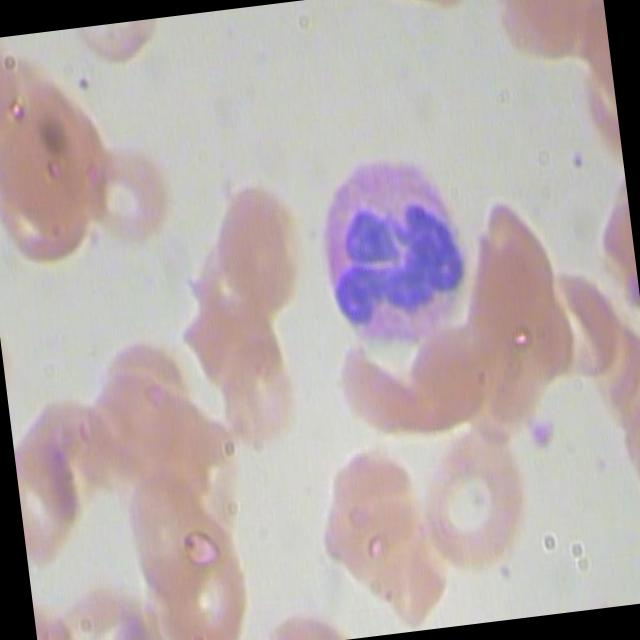Platelets: (524, 406, 562, 461)
RBC: (412, 404, 551, 574), (74, 317, 210, 488), (188, 292, 322, 463), (310, 431, 444, 598), (203, 153, 316, 325), (466, 175, 579, 347), (115, 452, 225, 613), (0, 117, 108, 270), (143, 495, 253, 640), (11, 415, 99, 573), (69, 137, 182, 251)
WBC: (292, 136, 495, 372)
